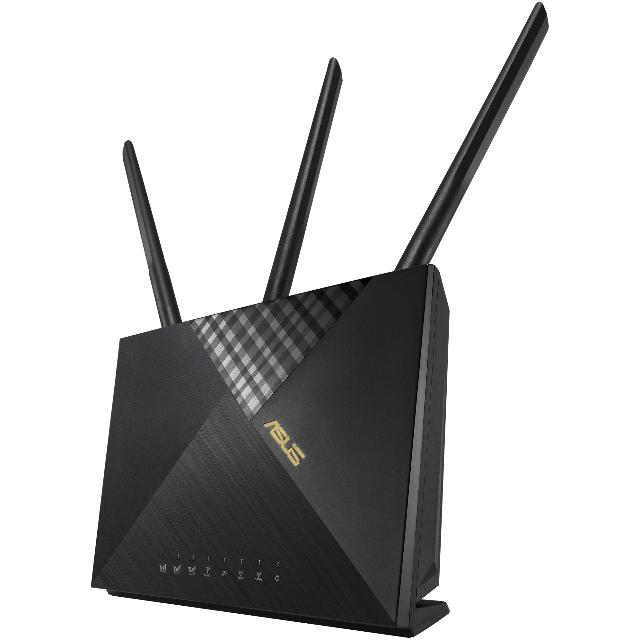Router: (91, 13, 546, 640)
